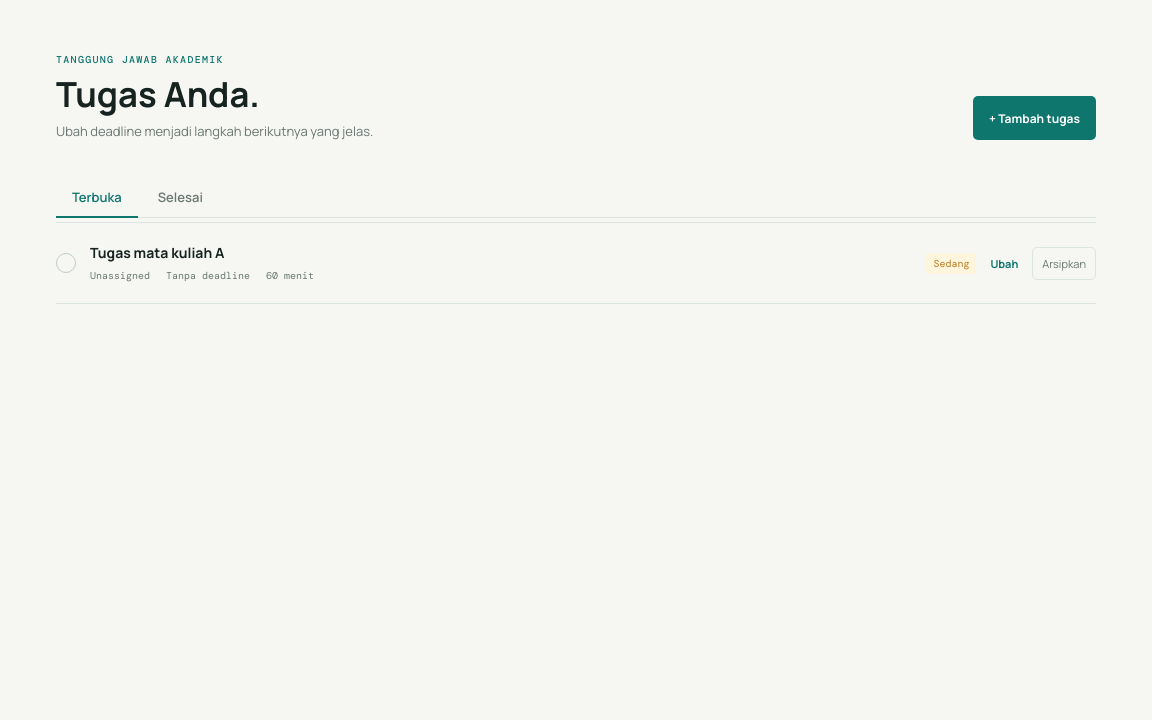
TasksPage — complete, Selesai tab, restore › restores a task via the transient undo toast
Click the button named "Selesaikan Tugas mata kuliah A": (66, 263) [56,253,76,273]
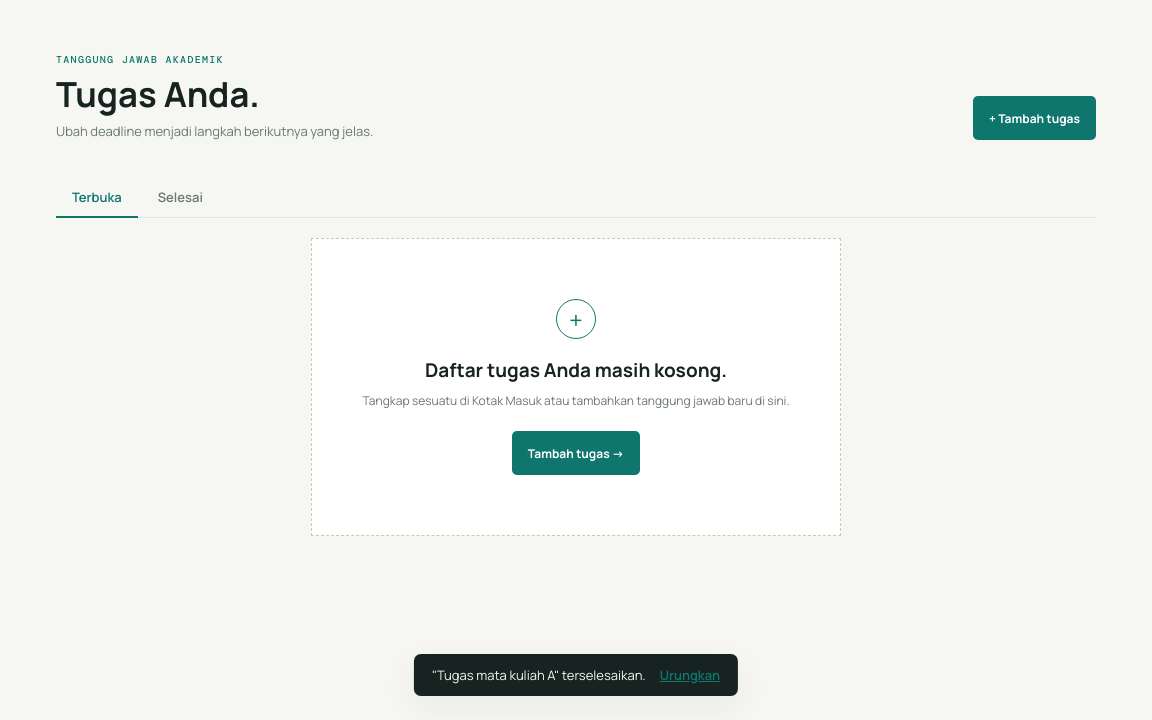
Click the button "Urungkan": (690, 675) [660,666,720,684]
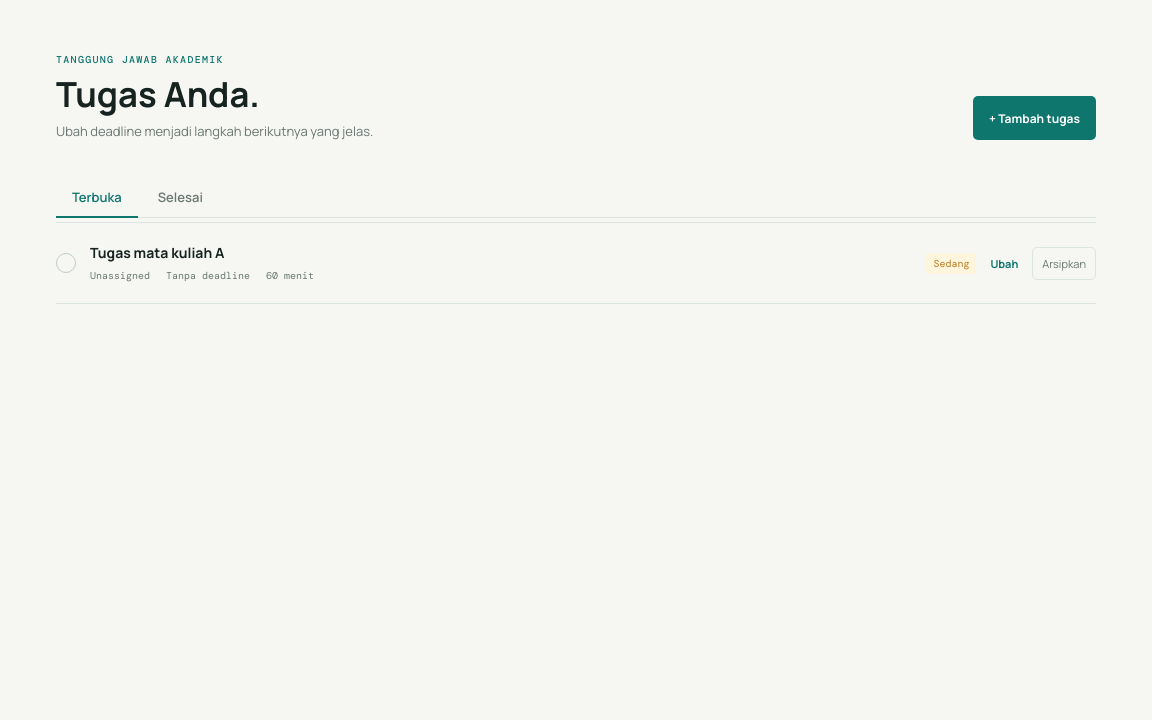
Now the heading "Tugas mata kuliah A" is shown, box [90,243,224,262]
Now the button named "Selesaikan Tugas mata kuliah A" is shown, box [56,253,76,273]
